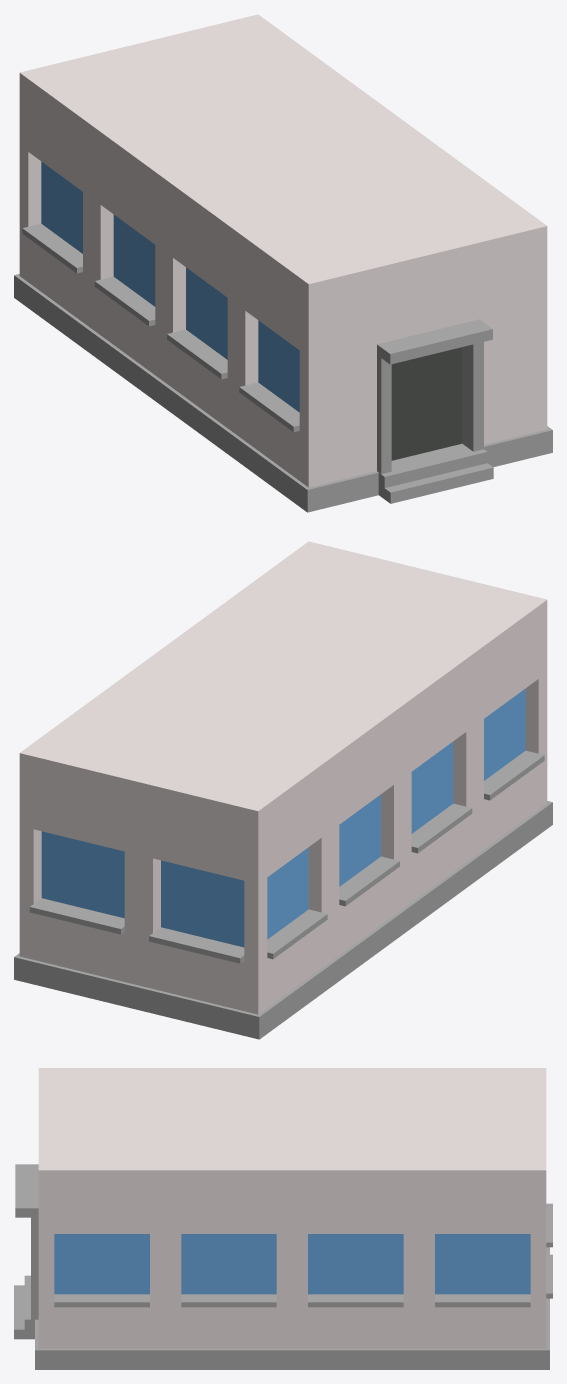
Rendered from building_1x2_1_g_beigepink.glb.
3 renders of one model, top to bottom at view 1: azimuth 30°, elevation 25°; view 2: azimuth 150°, elevation 25°; view 3: azimuth 270°, elevation 25°, orthographic. The views are drawn at different scales.
Parts seen in each view (by area): view 1: Cube; view 2: Cube; view 3: Cube.
Part boxes in pixels (box(x1,y1,x2,y2)): Cube: box(14, 14, 552, 512); Cube: box(14, 541, 552, 1039); Cube: box(14, 1068, 552, 1369).
Size of the model in its own units: 1.86 by 1.6 by 3.94.
